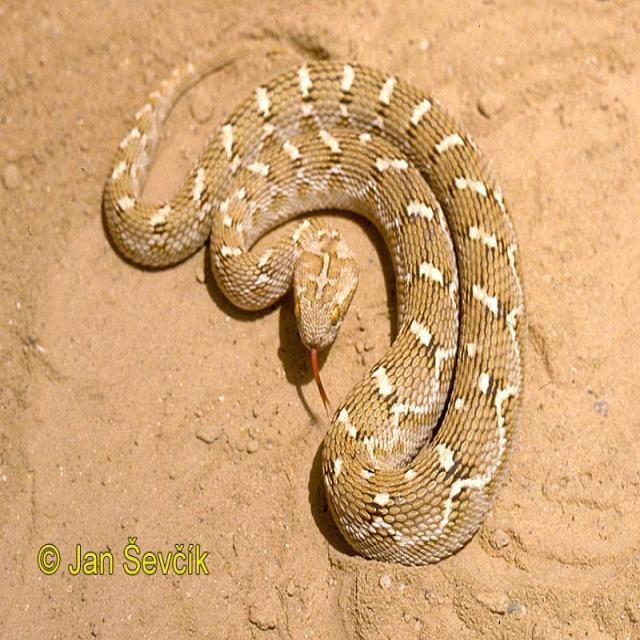Snake: (100, 52, 530, 566)
